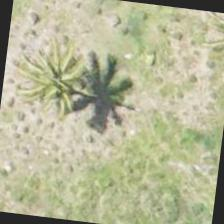Kelapa_Sawit: (1, 30, 102, 130)
